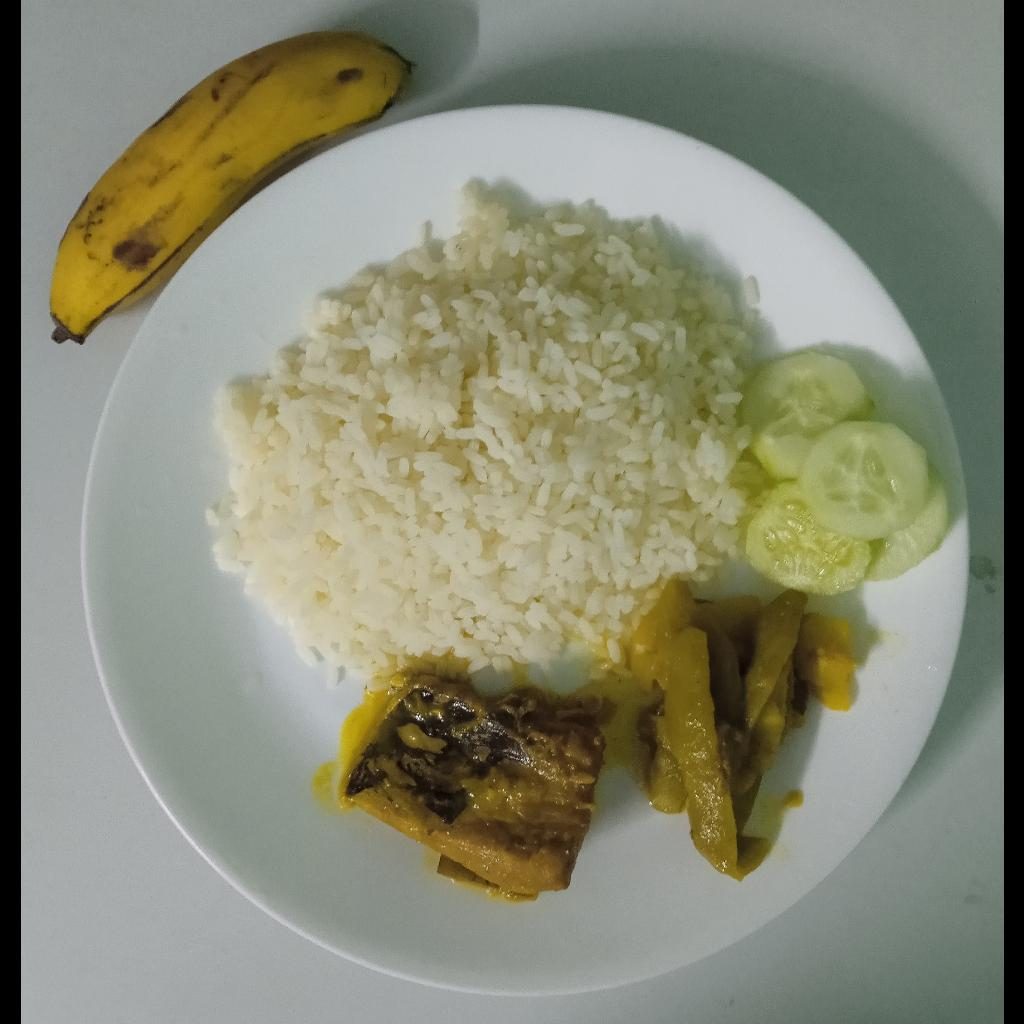banana: (49, 30, 412, 344)
cucumber: (744, 349, 950, 596)
fish: (339, 675, 609, 902)
potol: (626, 580, 860, 882)
rice: (203, 182, 772, 689)
